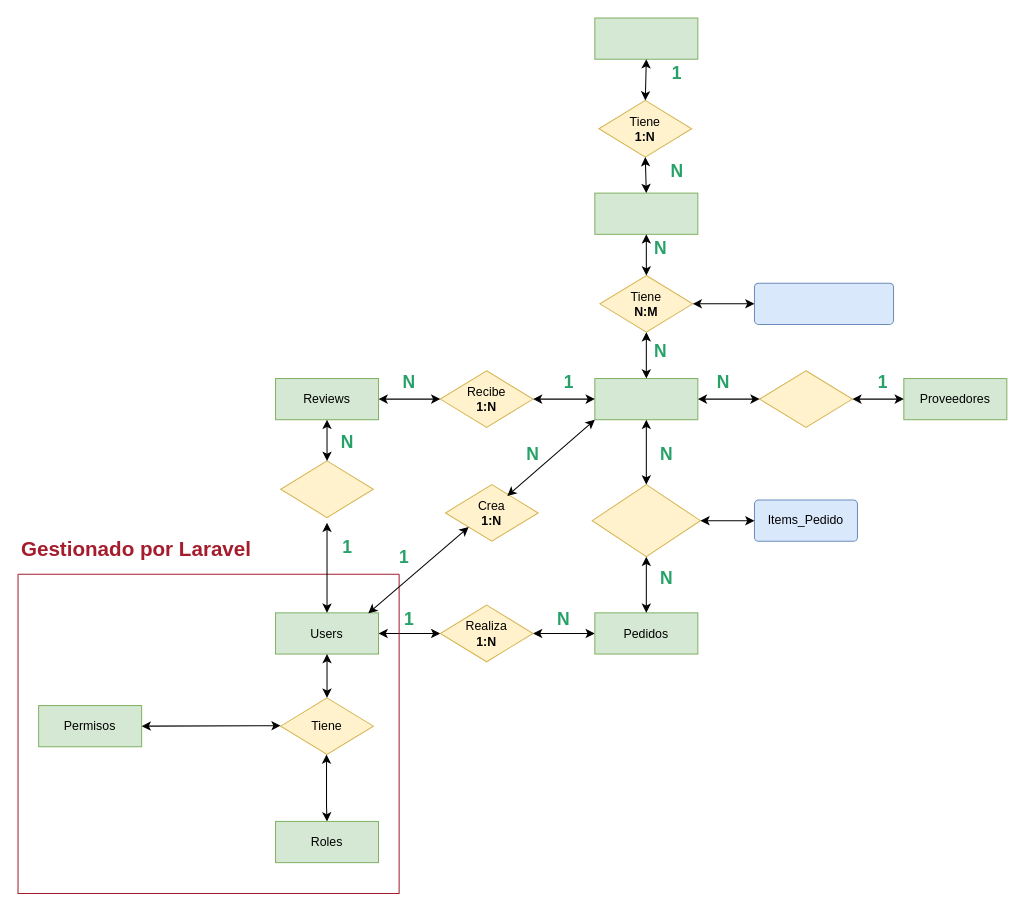
Some shapes in this 1025 by 912 pixel diagram are drawn without their labels. The centre of each missing label's shape, as x and y in pixels:
"Categoría_Producto" goes at point (823, 303).
"CategoríaPadre" goes at point (646, 38).
"Categorías" goes at point (646, 213).
"Contiene N:M" goes at point (645, 520).
"Escribe 1:N" goes at point (326, 489).
"Productos" goes at point (646, 398).
"Suministra 1:N" goes at point (805, 398).
